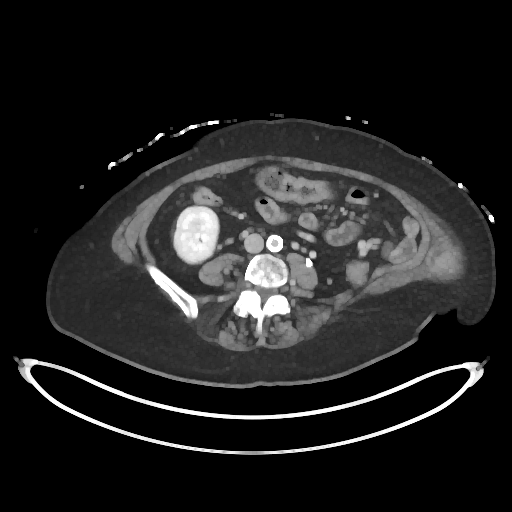Lesion: (193, 234, 206, 247)
